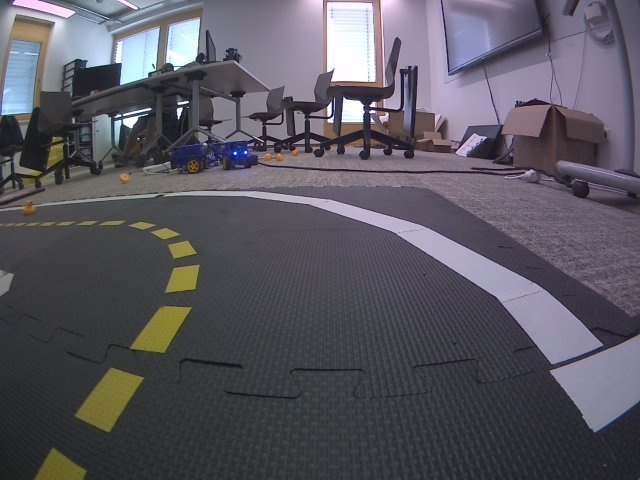Bot: (171, 142, 206, 173), (222, 141, 252, 171), (223, 47, 242, 64)
